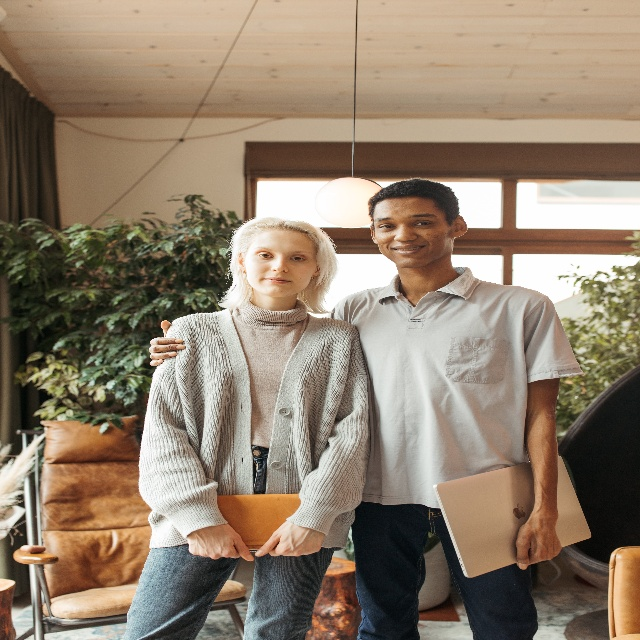Sin_guantes: (255, 520, 325, 557), (516, 517, 563, 570), (187, 525, 254, 562), (149, 319, 185, 366)
